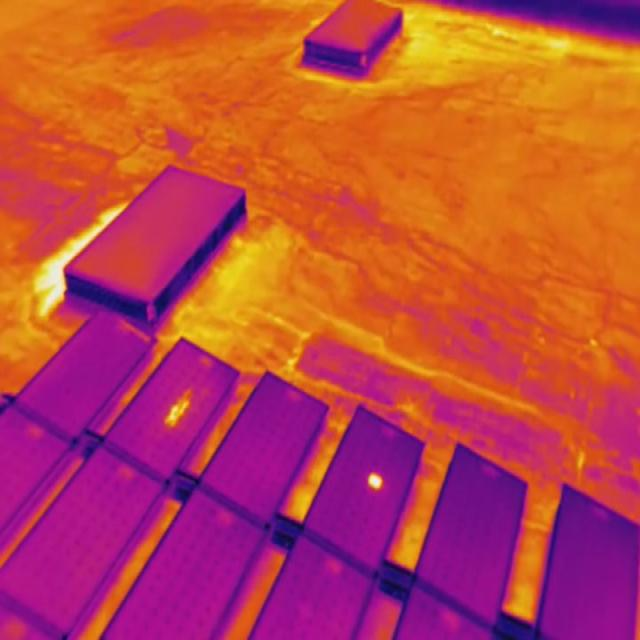Orange-Spots: (163, 390, 190, 426), (368, 470, 382, 487)
